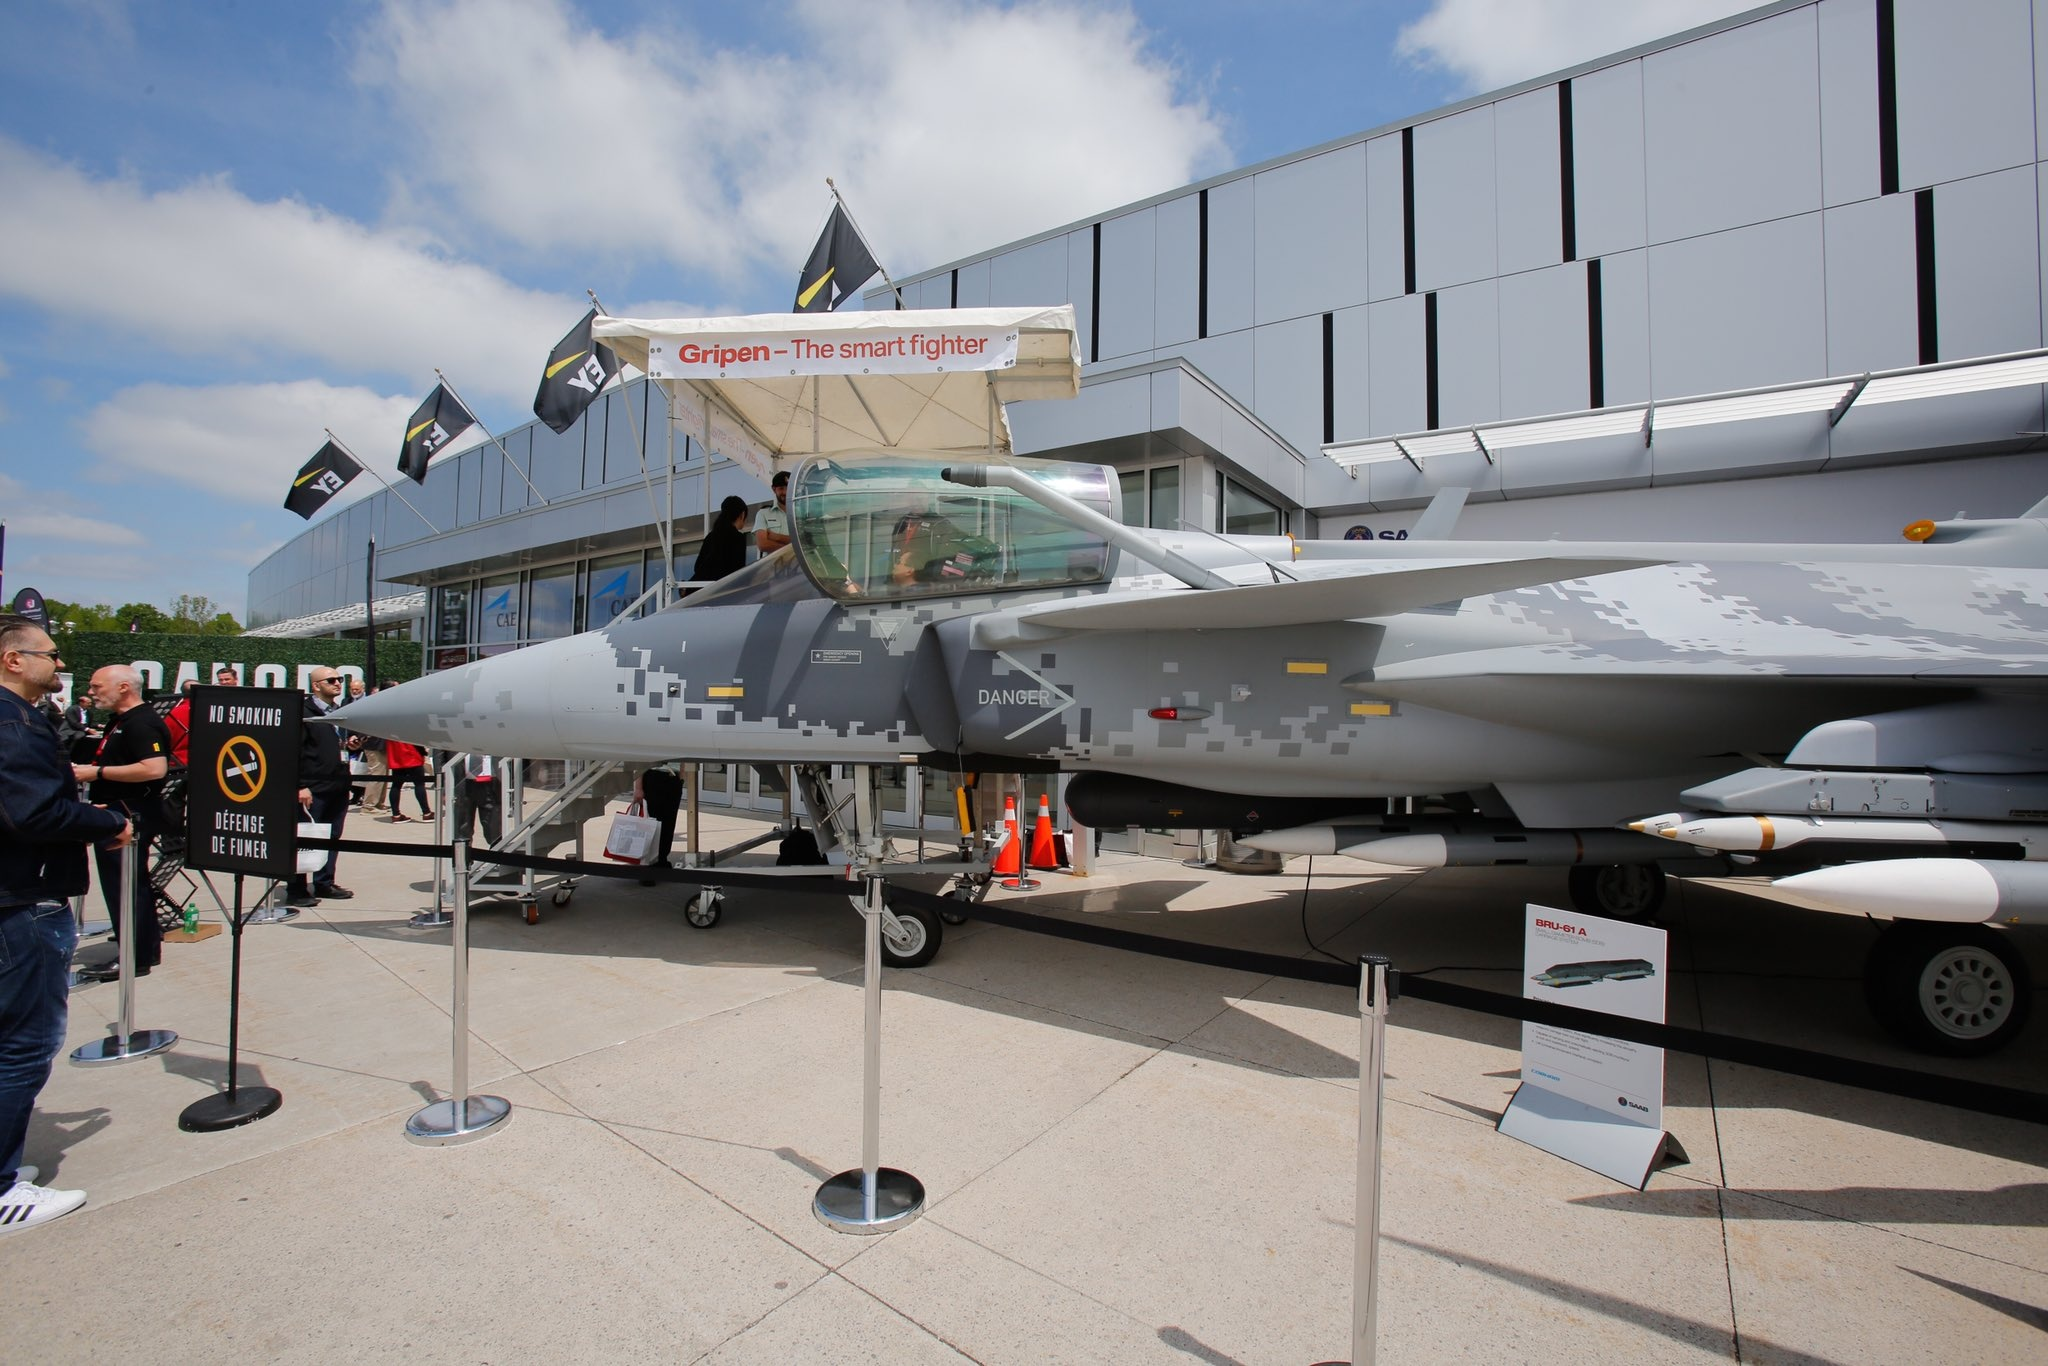JAS39: (302, 445, 2048, 1057)
